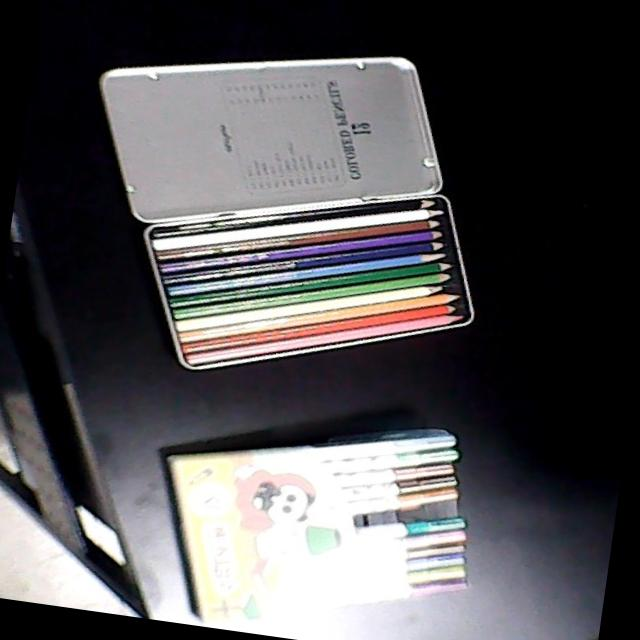color: (126, 189, 482, 376)
signpen: (154, 422, 484, 627)
